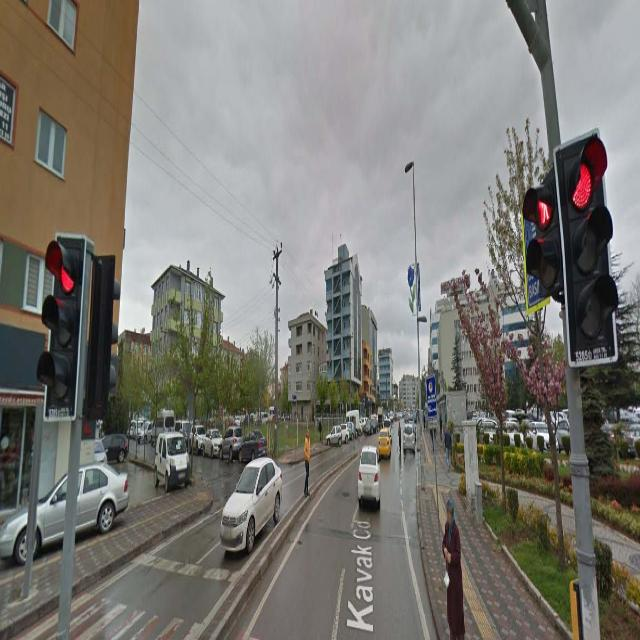kirmizi: (561, 152, 609, 356), (50, 230, 77, 392)
